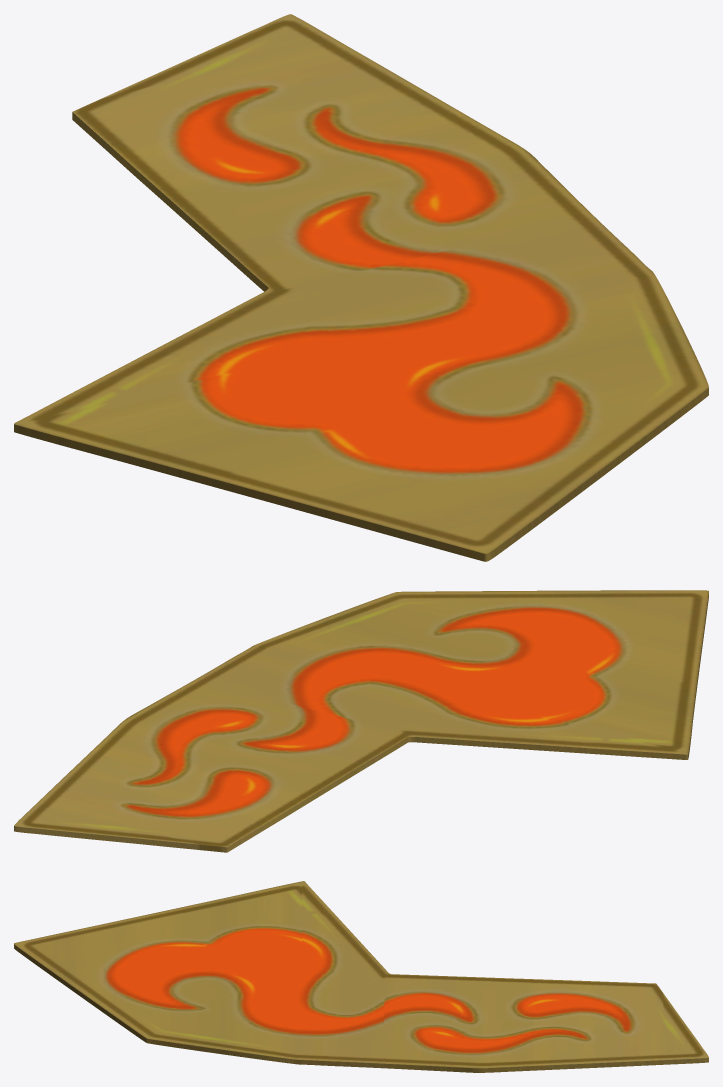
3 renders of one model, top to bottom at view 1: azimuth 30°, elevation 25°; view 2: azimuth 150°, elevation 25°; view 3: azimuth 270°, elevation 25°, orthographic. The views are drawn at different scales.
Visible parts, largest first — view 1: path1587; view 2: path1587; view 3: path1587.
Part boxes in pixels (<box>): path1587: <box>14,14,708,561</box>; path1587: <box>14,590,708,852</box>; path1587: <box>14,881,708,1072</box>.
Size of the model in its own units: 87.73 by 1 by 138.
Materials: 1 (1 with a texture image).
